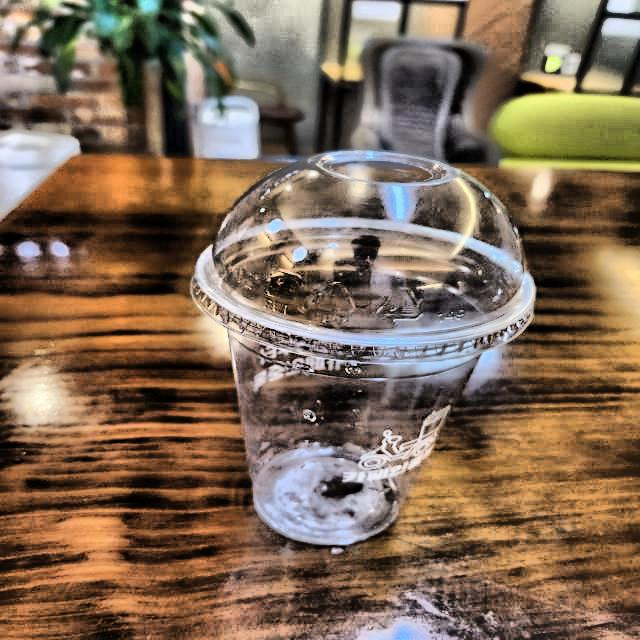plastic cup: (163, 127, 561, 582)
